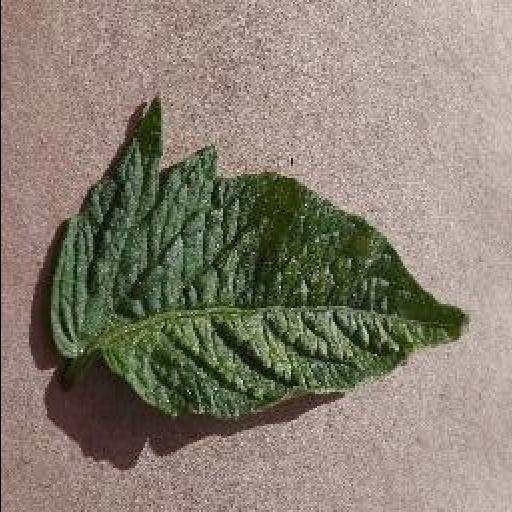disease_tomato: (50, 94, 474, 418)
